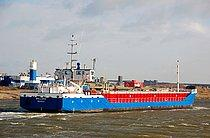Ship: (17, 39, 200, 117)
